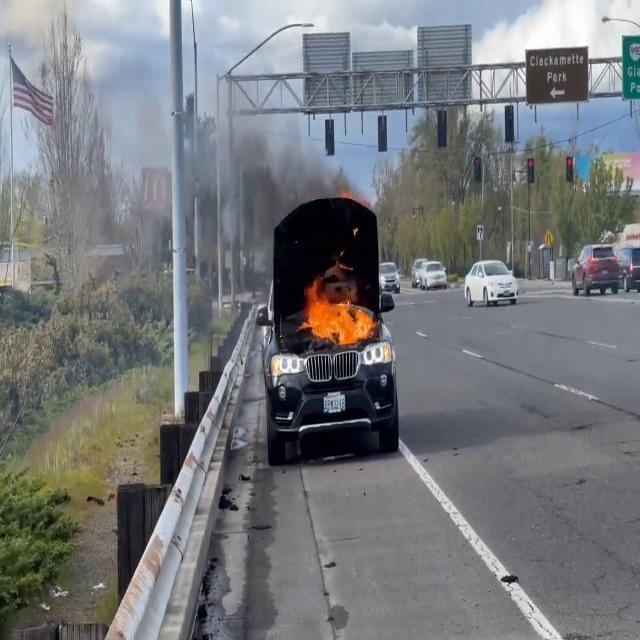Fire: (297, 276, 377, 347)
Smoke: (90, 20, 354, 317)
